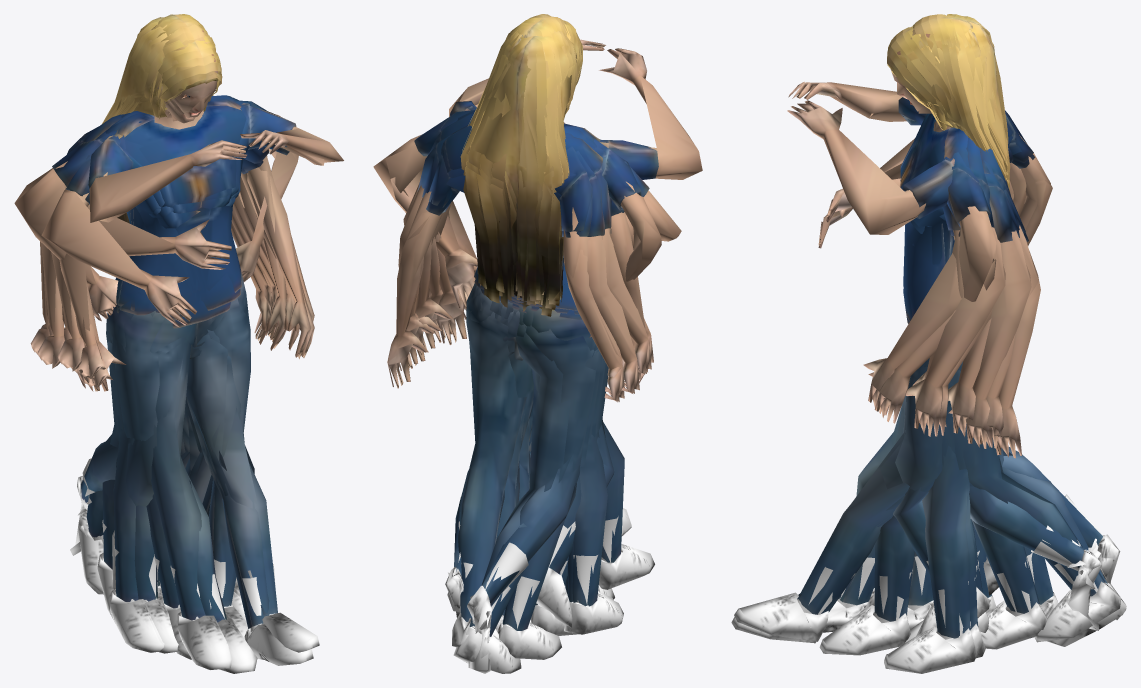
3 views of the same model, side by side, from view 1: azimuth 30°, elevation 25°; view 2: azimuth 150°, elevation 25°; view 3: azimuth 270°, elevation 25° (orthographic). The views are drawn at different scales.
Visible parts, largest first — view 1: geh1, geh5, steh, geh6, hueften, geh3, reden, geh4, foto, handy, geh7, geh2 (+1 smaller); view 2: geh4, geh2, geh6, geh3, hueften, geh5, geh1, geh7, foto, geh0, steh, reden (+1 smaller); view 3: geh7, hueften, geh0, geh5, geh2, geh1, foto, geh3, geh4, geh6, steh, handy (+1 smaller).
Part boxes in pixels (x1,y1,x2,y2): geh1: (41, 73, 310, 669); geh5: (75, 89, 319, 652); steh: (59, 14, 286, 653); geh6: (78, 90, 313, 665); hueften: (14, 95, 298, 652); geh3: (38, 56, 299, 659); reden: (41, 14, 236, 327); geh4: (51, 17, 279, 599); foto: (88, 97, 343, 222); handy: (87, 35, 246, 644); geh7: (70, 97, 278, 638); geh2: (30, 78, 314, 673); geh4: (415, 30, 651, 635); geh2: (437, 129, 624, 647); geh6: (387, 102, 647, 673); geh3: (429, 54, 639, 617); hueften: (373, 110, 661, 634); geh5: (399, 92, 653, 659); geh1: (443, 146, 654, 631); geh7: (398, 54, 635, 673); foto: (449, 32, 702, 179); geh0: (403, 30, 624, 627); steh: (435, 14, 647, 600); reden: (508, 14, 681, 241); geh7: (819, 55, 1120, 655); hueften: (884, 110, 996, 673); geh0: (903, 29, 1026, 642); geh5: (734, 57, 1058, 641); geh2: (823, 109, 1121, 642); geh1: (856, 110, 1050, 649); foto: (787, 42, 960, 234); geh3: (907, 33, 1101, 630); geh4: (893, 16, 1011, 635); geh6: (731, 106, 1126, 646); steh: (902, 14, 985, 658); handy: (826, 24, 973, 660).
Bounding box in the file's own units: 0.8685 × 1.76 × 0.9923.
Materials: 1 (1 with a texture image).
